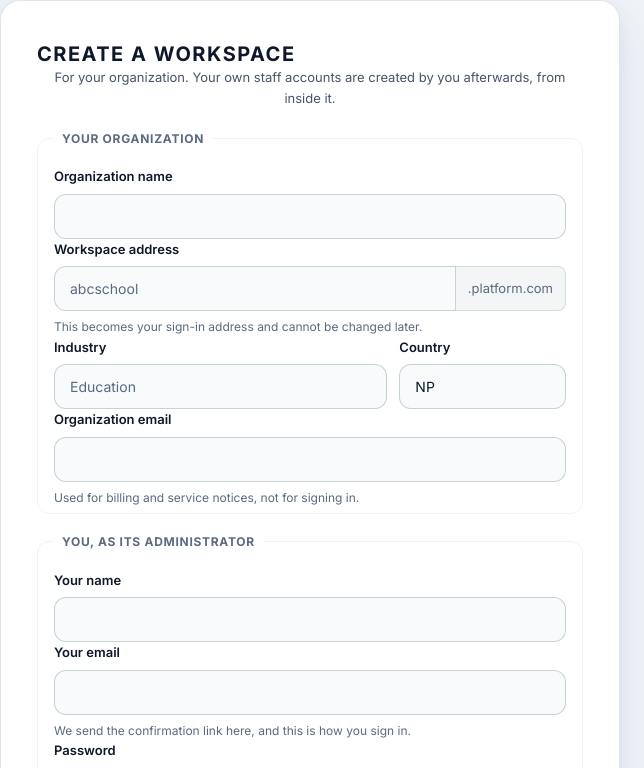
Test: the registration form › says WHICH problem a subdomain has, and blocks submission
In the field with placeholder "abcschool": (255, 289) [54,266,456,311], type "admin"
(page scrolled)
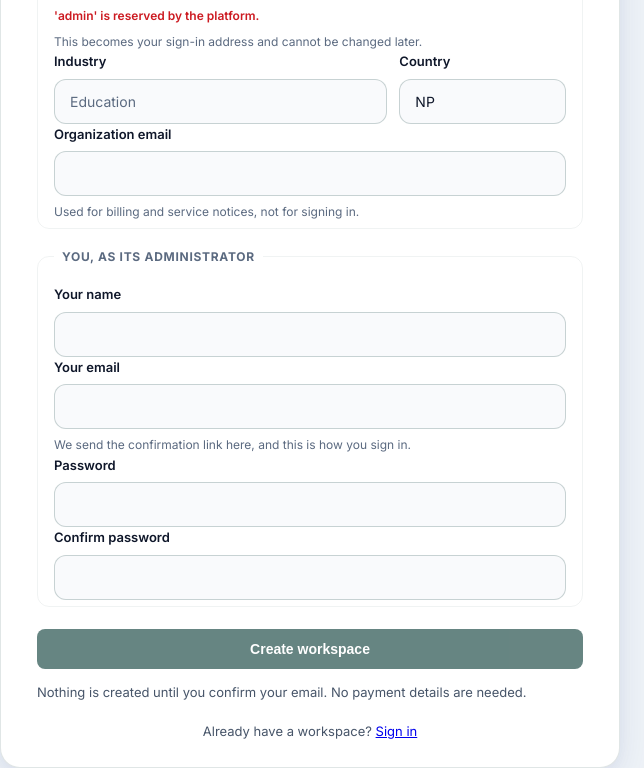
Now the text "'admin' is reserved by the platform." is shown, box [54,8,259,23]
Now the button "Create workspace" is disabled, box [37,629,583,669]
